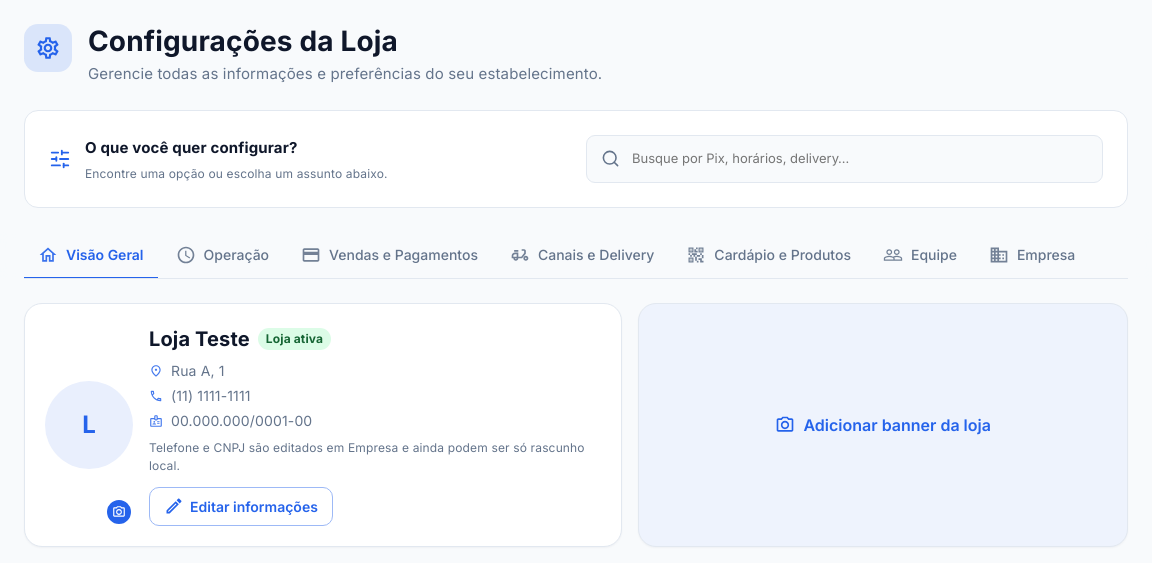
Scenario: Settings page navigation › abre Delivery pelo grupo Canais
This screenshot has width=1152, height=563.
Click the tab "Canais e Delivery": {"x": 582, "y": 256} [496,232,668,279]
(page scrolled)
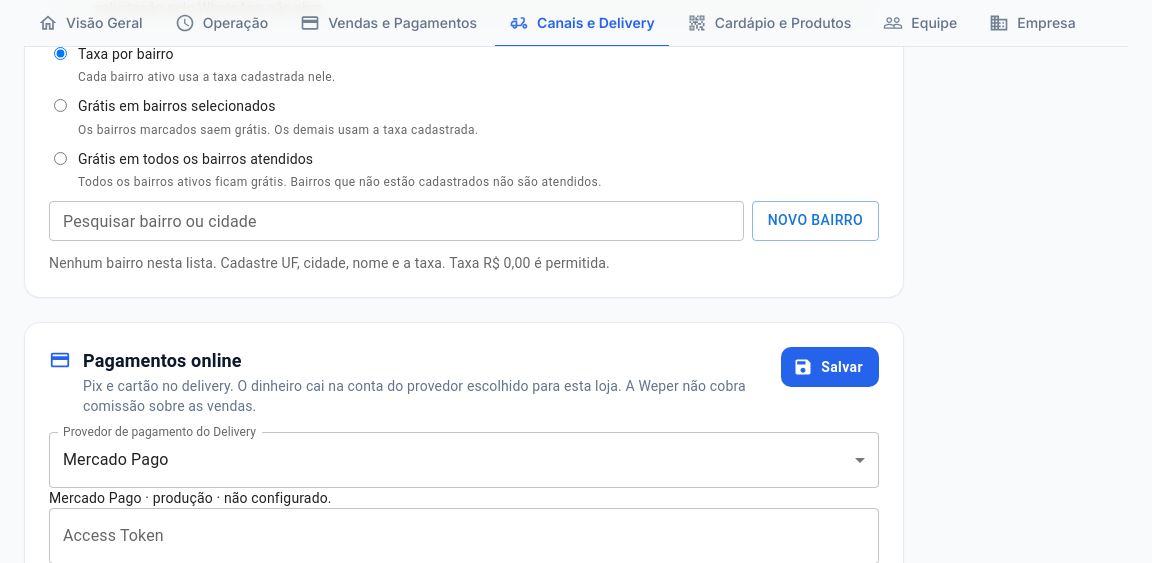
Now the heading "Pagamentos online" is shown, box [83,350,242,370]
